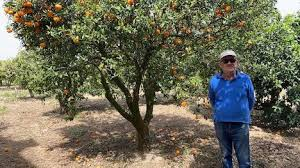orange: (179, 101, 189, 108)
